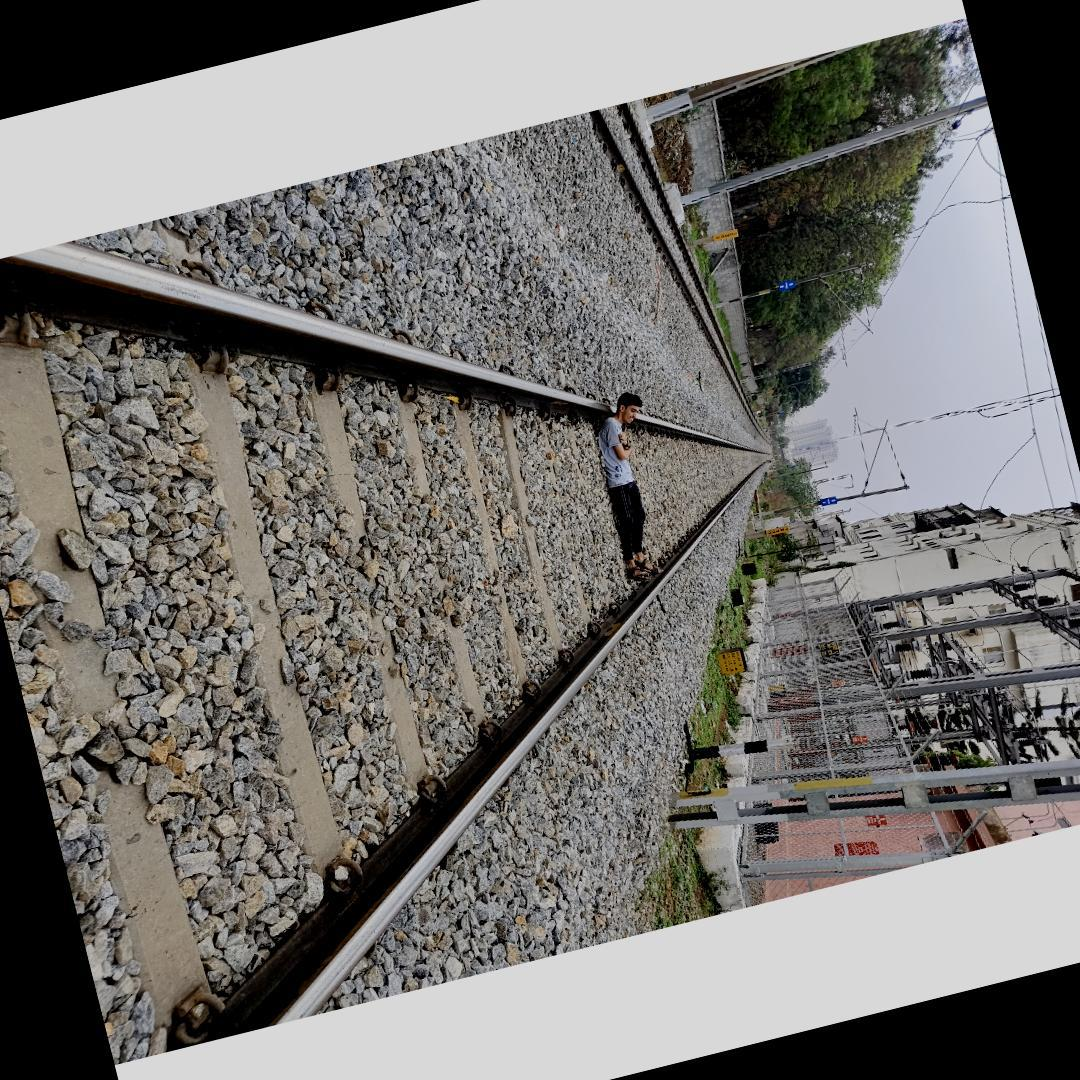sleeping: (581, 385, 686, 586)
track: (0, 233, 776, 1064)
